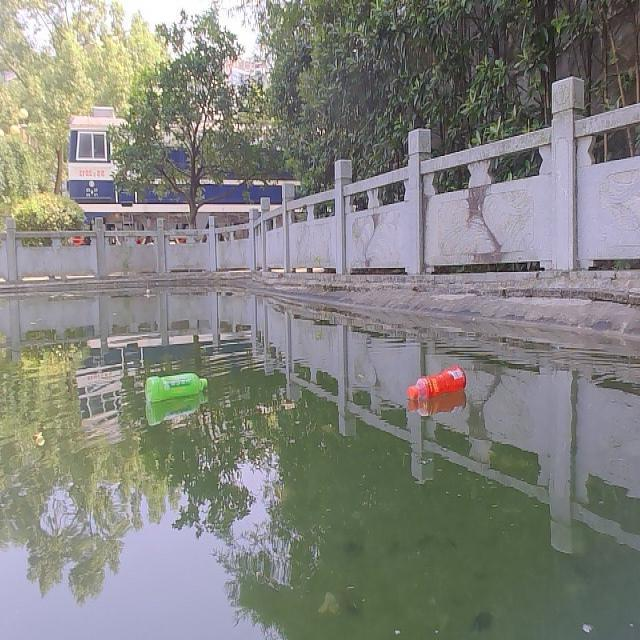Bottle: (400, 362, 474, 408), (138, 367, 214, 408)
